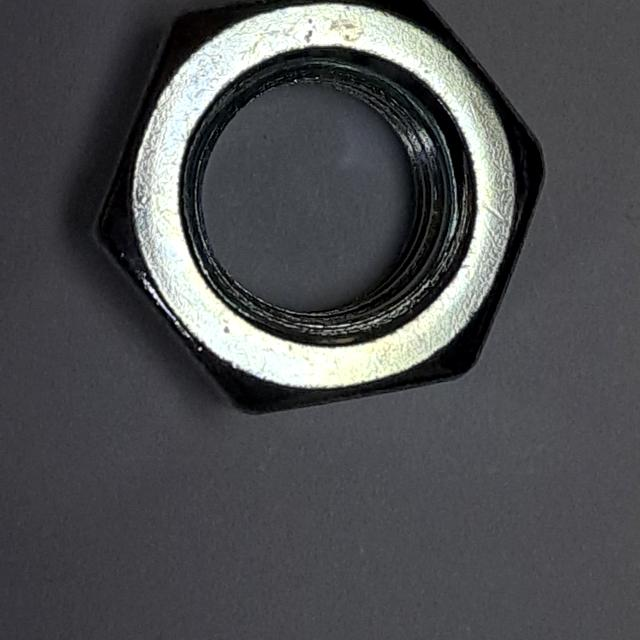Excellent: (68, 1, 566, 424)
